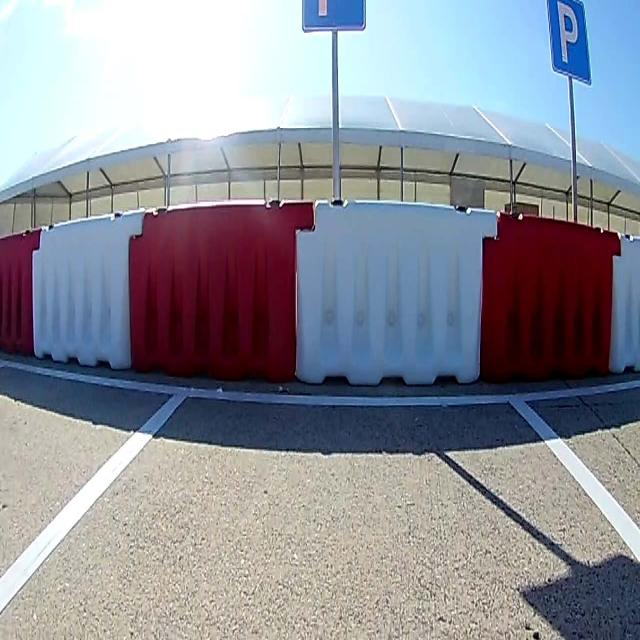park: (545, 1, 591, 83)
